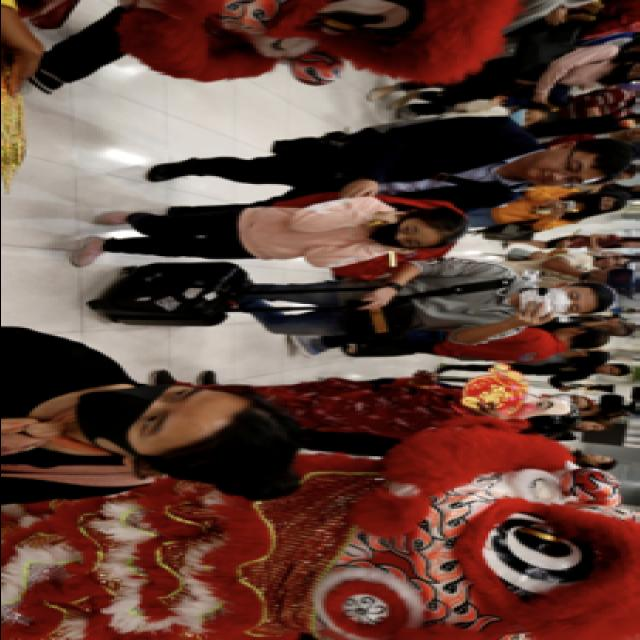mask: (76, 382, 210, 454), (366, 219, 434, 253), (526, 288, 586, 315), (493, 392, 558, 416), (510, 108, 536, 126), (552, 396, 584, 410), (586, 197, 614, 211)
no_mask: (530, 150, 594, 190), (598, 258, 626, 268), (590, 454, 612, 466), (600, 363, 620, 376), (581, 421, 603, 432), (623, 242, 640, 250)
